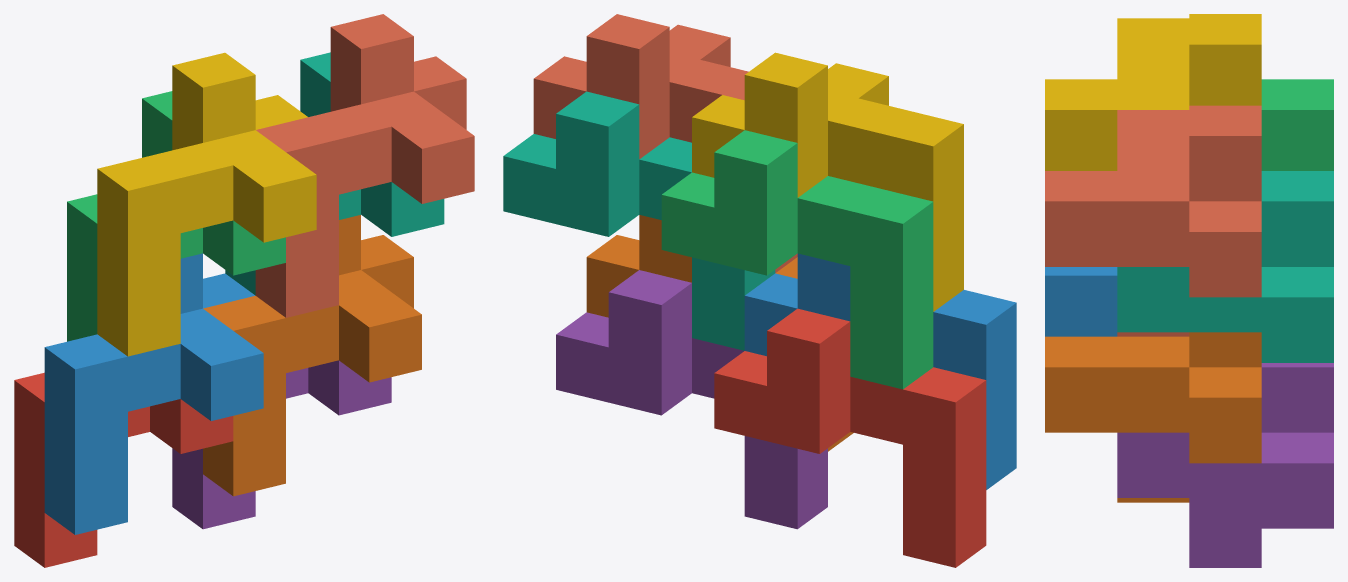
The model's file is tiling.obj.
3 renders of one model, left to right at view 1: azimuth 30°, elevation 25°; view 2: azimuth 150°, elevation 25°; view 3: azimuth 270°, elevation 25°, orthographic. The views are drawn at different scales.
Parts seen in each view (by area): view 1: copy_1_domain_4, copy_1_domain_8, copy_1_domain_2, copy_1_domain_6, copy_1_domain_1, copy_1_domain_3, copy_1_domain_5, copy_1_domain_7; view 2: copy_1_domain_3, copy_1_domain_1, copy_1_domain_4, copy_1_domain_5, copy_1_domain_7, copy_1_domain_8, copy_1_domain_2, copy_1_domain_6; view 3: copy_1_domain_8, copy_1_domain_5, copy_1_domain_6, copy_1_domain_7, copy_1_domain_4, copy_1_domain_3, copy_1_domain_2.
Boxes of the visible parts, x1,y1,x2,y2 form: copy_1_domain_4: (97, 52, 316, 356); copy_1_domain_8: (255, 14, 474, 317); copy_1_domain_2: (44, 253, 263, 534); copy_1_domain_6: (203, 215, 421, 496); copy_1_domain_1: (14, 372, 233, 567); copy_1_domain_3: (67, 91, 285, 341); copy_1_domain_5: (172, 360, 391, 529); copy_1_domain_7: (225, 52, 444, 295); copy_1_domain_3: (661, 130, 933, 389); copy_1_domain_1: (714, 308, 986, 567); copy_1_domain_4: (692, 52, 963, 311); copy_1_domain_5: (556, 270, 827, 529); copy_1_domain_7: (503, 91, 775, 350); copy_1_domain_8: (533, 14, 797, 272); copy_1_domain_2: (744, 253, 1016, 489); copy_1_domain_6: (586, 215, 853, 451); copy_1_domain_8: (1045, 105, 1261, 336); copy_1_domain_5: (1117, 363, 1333, 567); copy_1_domain_6: (1045, 332, 1261, 502); copy_1_domain_7: (1117, 171, 1333, 362); copy_1_domain_4: (1045, 14, 1261, 170); copy_1_domain_3: (1261, 79, 1333, 170); copy_1_domain_2: (1045, 267, 1117, 336).
Bounding box in the file's own units: 8 × 8 × 4.
